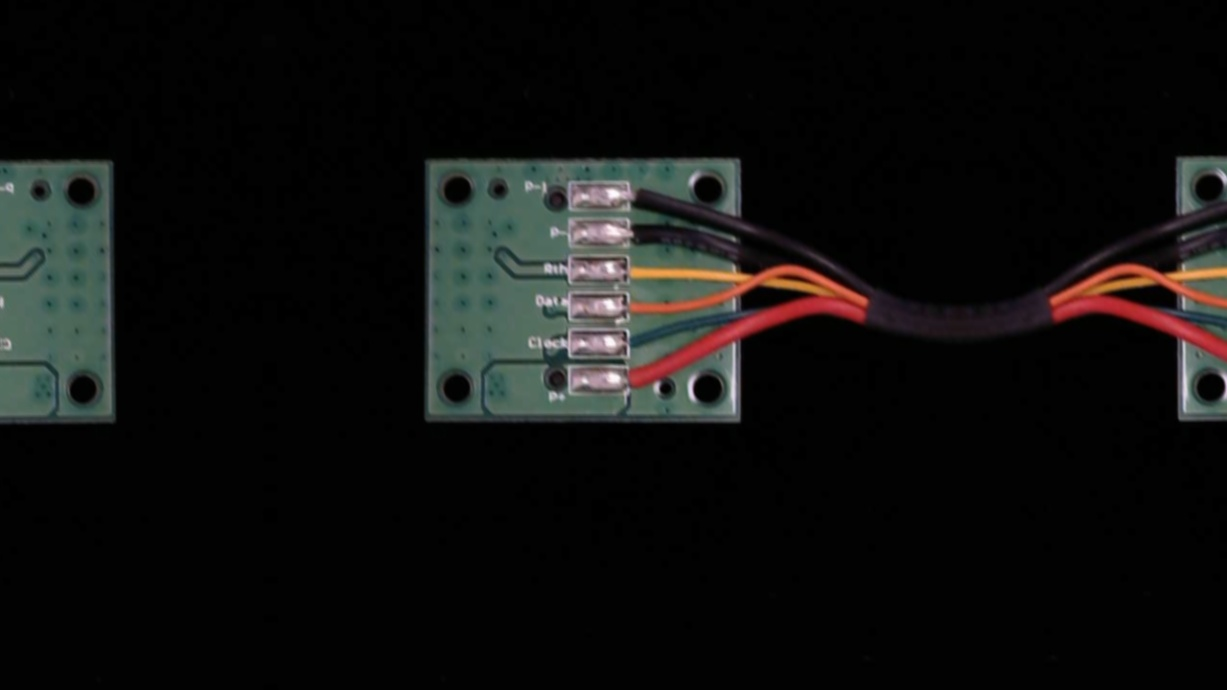Black: (610, 216, 680, 249)
Black1: (611, 177, 677, 205)
Green: (611, 329, 669, 356)
Orange: (610, 289, 680, 320)
Red: (611, 363, 675, 393)
Yellow: (611, 255, 682, 288)
